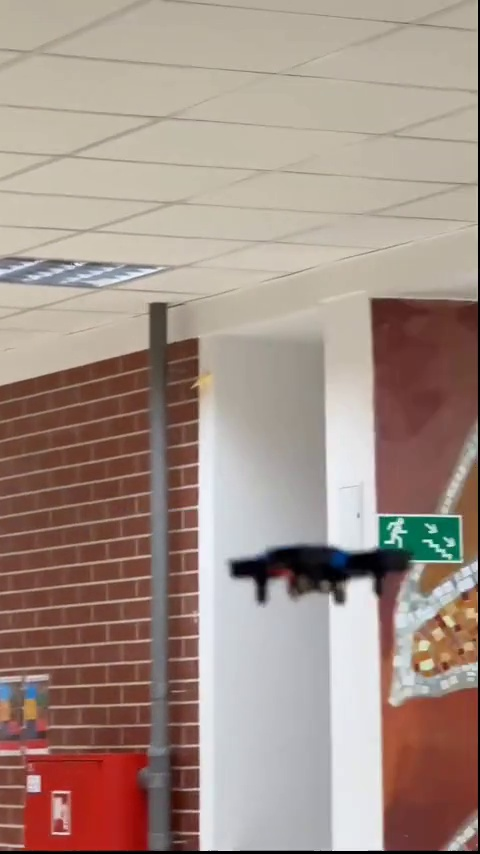drone: (224, 544, 404, 597)
